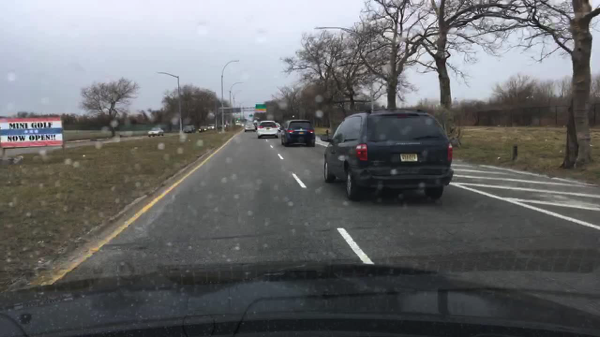car: (324, 109, 454, 203), (282, 119, 317, 147), (255, 119, 279, 140), (146, 126, 164, 138), (243, 121, 257, 133), (182, 125, 196, 134), (275, 122, 282, 132), (197, 126, 206, 132), (207, 124, 214, 131), (253, 121, 259, 129), (234, 121, 242, 126)
traffic sign: (255, 104, 266, 114)
